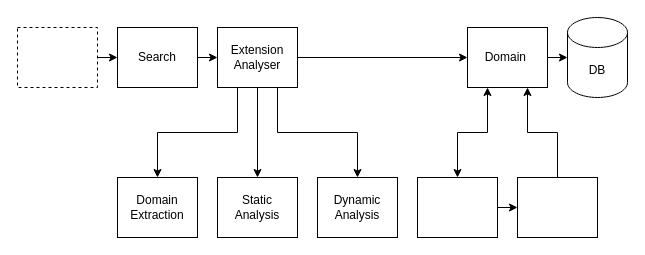
This 645x255 diagram has some shape labels left out. The shapes that lost their labels are listed below. From the top down, each one's box as (x1, y1, x2, y2) in pixels, then its label:
(16, 26, 98, 88): Extension Dowloader
(416, 176, 498, 238): zDNS
(516, 176, 598, 238): RDAP
